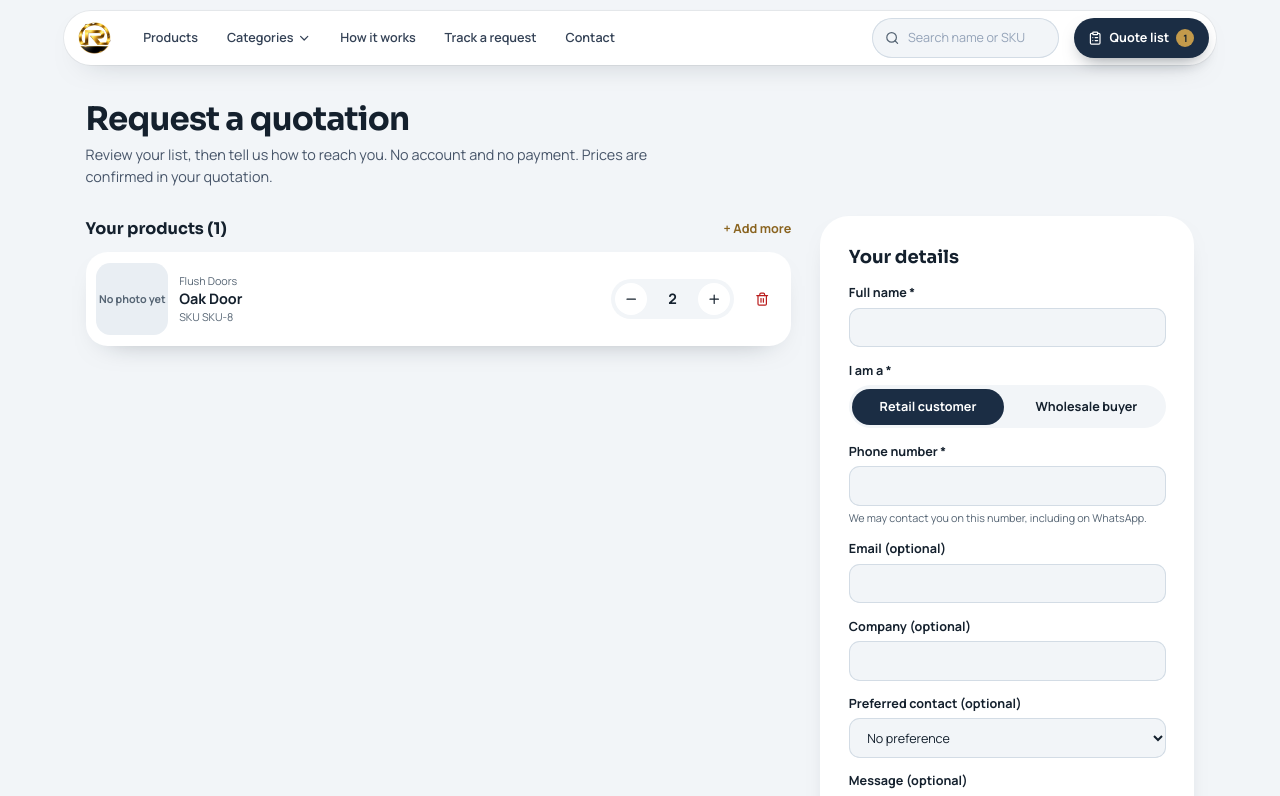
Test: quantities can be changed and products removed
What coordinates should you click on to do the following:
click the button named "Increase quantity"
I would click on:
 (714, 299)
Its box is [698,283,730,315].
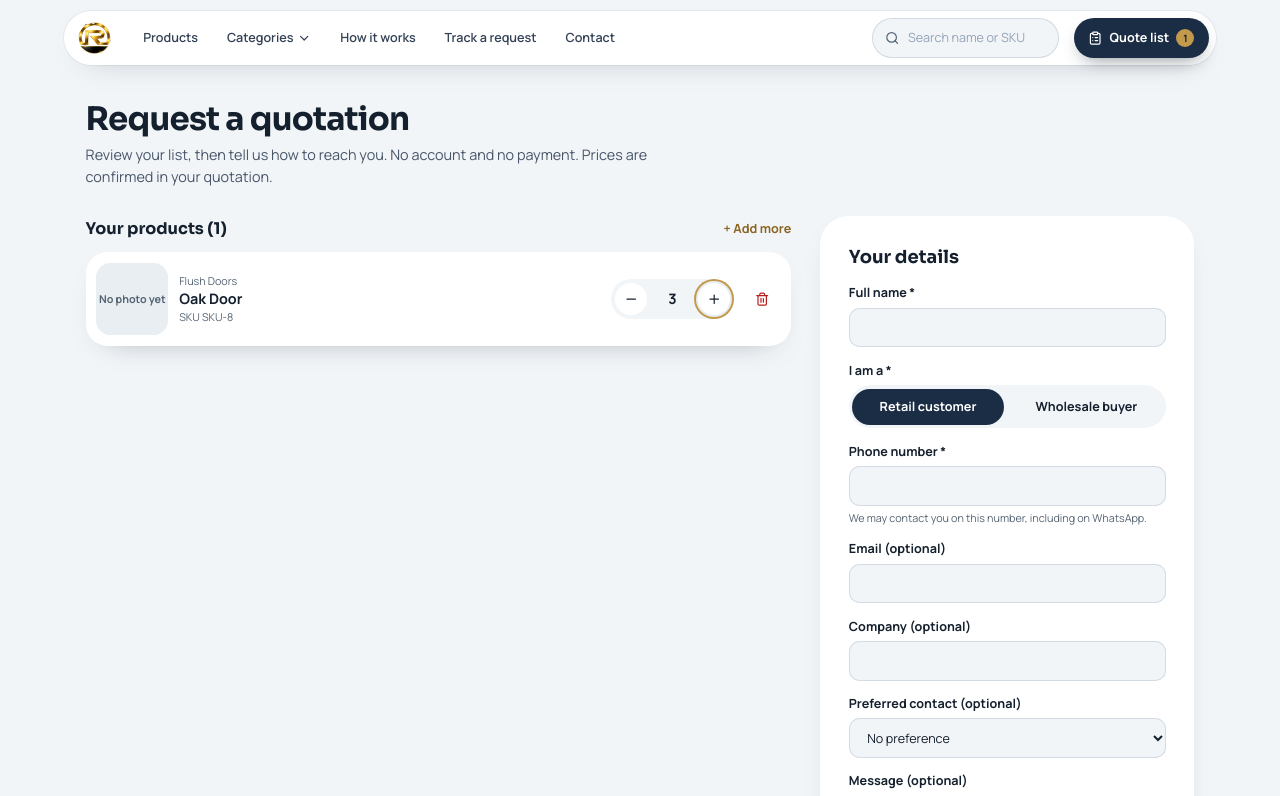
Now the field named "Quantity" holds "3", box [647,288,698,310]
What coordinates should you click on to do the following:
click the button named "Decrease quantity"
I would click on:
 (631, 299)
Its box is [615,283,647,315].
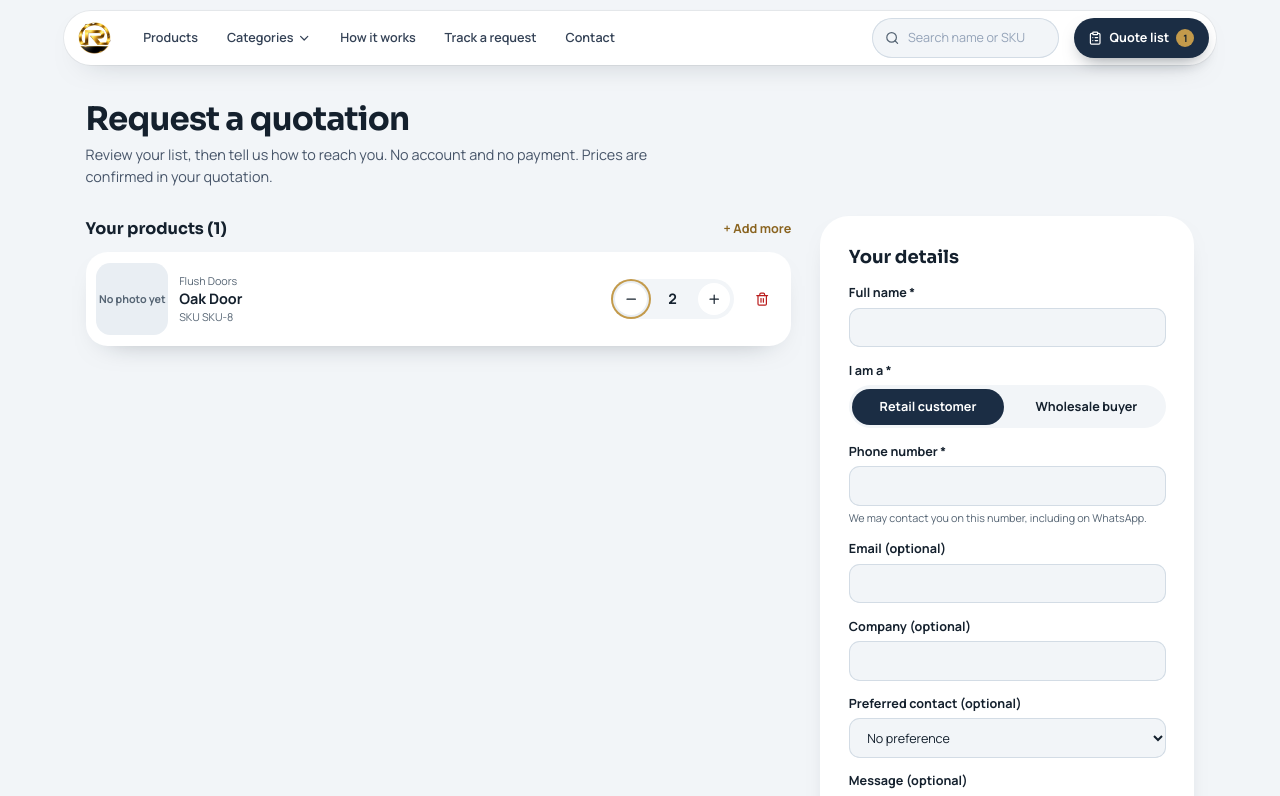
What coordinates should you click on to do the following:
click the button named "Remove Oak Door"
I would click on:
 (762, 299)
Its box is [744,281,780,317].
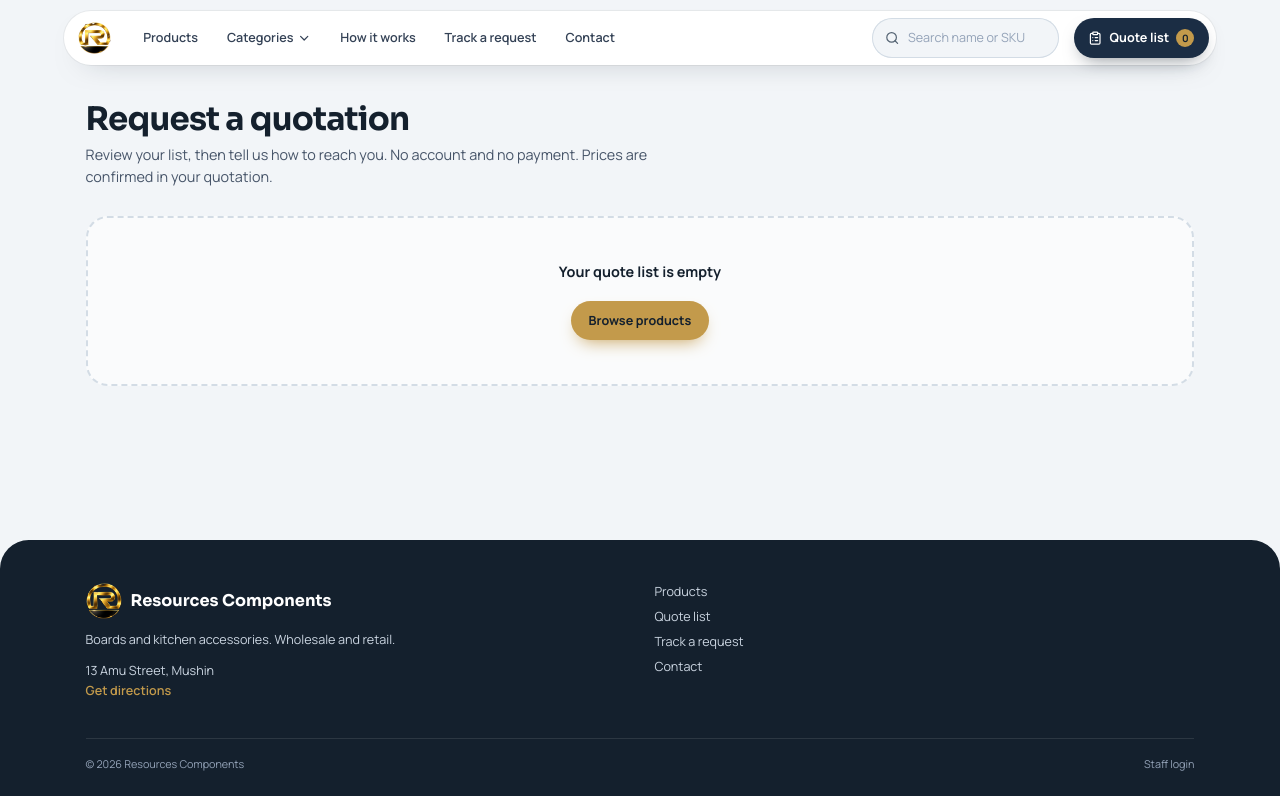
Now the text "Your quote list is empty" is shown, box [559,262,721,281]
